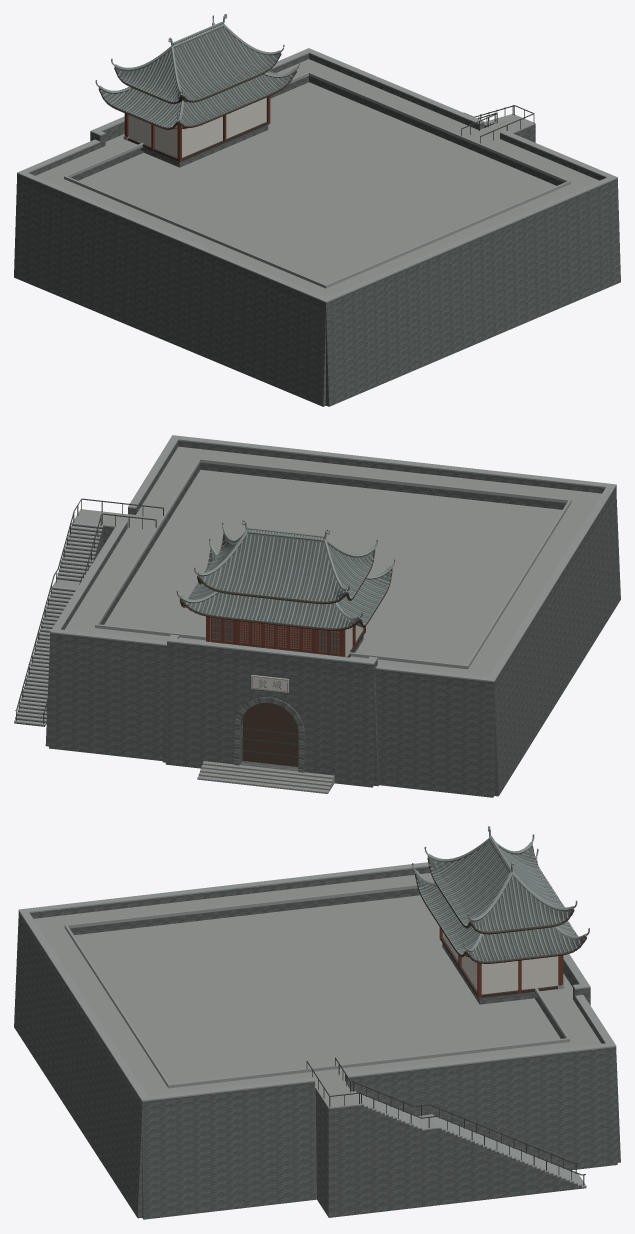
The model's file is jinshanwei-wengcheng-gatehouse-raw.glb.
The picture shows the model from 3 angles, top to bottom: view 1: azimuth 30°, elevation 25°; view 2: azimuth 150°, elevation 25°; view 3: azimuth 270°, elevation 25°; orthographic projection. The views are drawn at different scales.
Parts seen in each view (by area): view 1: 金山卫瓮城城楼 exterior; view 2: 金山卫瓮城城楼 exterior; view 3: 金山卫瓮城城楼 exterior.
Part boxes in pixels (<box>): 金山卫瓮城城楼 exterior: <box>14,14,620,406</box>; 金山卫瓮城城楼 exterior: <box>14,435,620,797</box>; 金山卫瓮城城楼 exterior: <box>14,826,620,1219</box>.
Bounding box in the file's own units: 44.12 × 18.89 × 45.31.
Materials: 20 (1 with a texture image).
